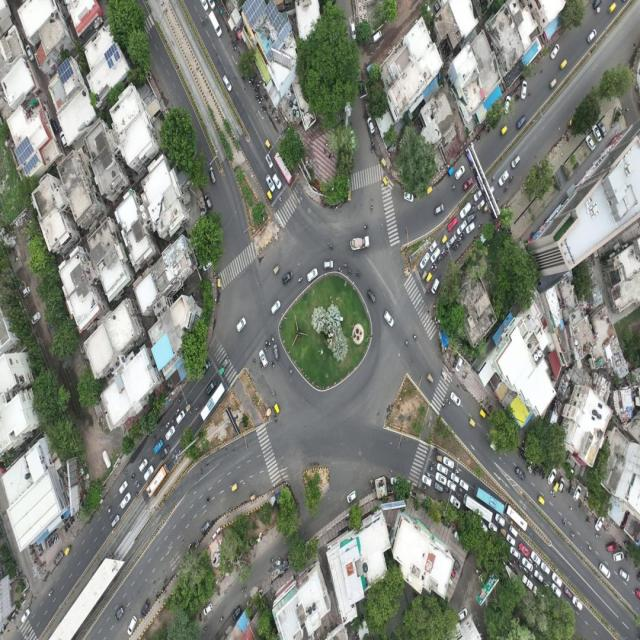3W: (536, 493, 547, 510), (558, 54, 568, 72), (63, 544, 73, 559), (478, 406, 488, 421), (566, 482, 575, 498), (248, 489, 257, 504), (608, 2, 618, 15), (498, 525, 508, 538), (425, 270, 433, 286), (426, 371, 435, 385), (468, 414, 477, 428), (186, 399, 193, 416), (420, 267, 427, 284), (567, 117, 576, 130), (551, 481, 560, 494), (500, 125, 509, 137), (222, 356, 230, 369), (266, 190, 274, 203), (549, 77, 557, 90), (425, 186, 434, 197), (230, 481, 238, 493), (274, 402, 280, 418), (216, 274, 222, 290), (380, 157, 388, 169), (440, 234, 448, 246), (435, 451, 443, 463), (265, 138, 272, 151), (448, 164, 455, 177), (272, 265, 281, 275), (219, 364, 225, 378), (382, 175, 388, 188), (482, 205, 489, 216)
Bus: (199, 380, 228, 426), (145, 459, 172, 504), (462, 491, 494, 526), (473, 484, 507, 516), (273, 150, 295, 191), (504, 499, 529, 534)
Cars: (344, 486, 359, 506), (514, 464, 527, 486), (598, 560, 611, 582), (460, 174, 475, 193), (497, 168, 511, 188), (418, 250, 432, 270), (433, 470, 448, 488), (118, 491, 132, 510), (586, 23, 598, 45), (384, 309, 396, 330), (618, 566, 632, 584), (205, 377, 218, 396), (269, 298, 282, 317), (306, 266, 319, 285), (459, 201, 472, 220), (551, 571, 564, 590), (449, 493, 462, 512), (591, 123, 602, 145), (52, 548, 64, 568), (221, 74, 233, 94), (503, 92, 513, 116), (446, 213, 458, 233), (445, 233, 459, 250), (442, 453, 456, 470), (19, 606, 32, 624), (152, 437, 165, 455), (281, 269, 294, 287), (370, 28, 383, 46), (432, 200, 444, 219), (571, 594, 583, 613), (584, 136, 598, 152), (456, 219, 469, 236), (449, 391, 462, 408), (127, 616, 137, 638), (141, 596, 151, 618), (231, 604, 242, 624), (366, 114, 376, 136), (430, 245, 441, 265), (546, 466, 557, 486), (143, 463, 155, 481), (530, 549, 542, 567), (258, 349, 269, 368), (272, 172, 283, 191), (174, 410, 187, 426), (402, 190, 415, 206), (509, 154, 522, 170), (550, 583, 563, 599), (533, 568, 546, 584), (518, 542, 531, 558), (164, 424, 176, 441), (454, 164, 466, 181), (516, 114, 528, 131), (266, 172, 276, 192), (572, 482, 582, 502), (598, 121, 609, 139), (366, 288, 377, 306), (510, 544, 521, 562), (506, 532, 517, 550), (605, 540, 619, 554), (110, 514, 122, 530), (159, 444, 171, 460), (349, 19, 357, 43), (549, 44, 561, 60), (522, 556, 534, 572), (421, 474, 433, 490), (201, 517, 211, 536), (236, 315, 246, 334), (204, 192, 214, 211), (430, 277, 440, 296), (348, 129, 357, 150), (114, 607, 125, 624), (612, 550, 625, 564), (201, 358, 211, 376), (208, 166, 217, 186), (355, 77, 364, 97), (562, 585, 574, 600), (436, 461, 448, 476), (118, 479, 129, 495), (520, 78, 528, 100), (594, 516, 605, 532), (202, 602, 214, 616), (322, 258, 334, 272), (464, 222, 476, 236), (138, 457, 148, 473), (265, 151, 273, 171), (495, 513, 507, 526), (272, 340, 279, 362), (466, 210, 477, 224), (450, 471, 461, 485), (557, 475, 565, 494), (541, 561, 551, 576), (433, 481, 445, 493), (459, 480, 470, 492), (510, 524, 520, 537), (488, 521, 498, 534), (199, 0, 209, 12), (473, 190, 483, 202), (477, 198, 486, 211), (207, 0, 217, 11), (429, 239, 437, 252), (592, 0, 602, 10)
LCV: (208, 10, 224, 40), (521, 574, 534, 593)
M2W: (161, 570, 168, 586), (47, 585, 55, 598), (327, 239, 334, 251), (218, 612, 224, 626), (29, 546, 36, 557), (240, 584, 247, 595), (270, 387, 276, 399), (287, 364, 293, 376), (200, 16, 206, 28), (502, 185, 510, 194), (187, 541, 193, 553), (136, 479, 143, 489), (297, 274, 304, 284), (130, 472, 136, 483), (152, 433, 158, 444), (278, 194, 284, 205), (202, 624, 208, 635), (33, 556, 39, 566), (133, 490, 139, 500), (205, 495, 211, 505), (160, 424, 165, 436), (165, 420, 170, 432), (178, 394, 184, 404), (194, 404, 200, 414), (347, 266, 353, 276), (362, 222, 368, 232), (412, 332, 418, 342), (523, 565, 529, 575), (432, 445, 439, 453), (471, 201, 476, 212), (107, 505, 113, 514), (122, 469, 128, 478), (355, 269, 361, 278), (508, 175, 514, 184), (490, 174, 496, 183), (404, 339, 410, 348), (587, 543, 593, 552), (595, 532, 601, 541), (425, 470, 431, 479), (270, 555, 276, 564), (70, 513, 74, 526), (64, 524, 69, 534), (66, 520, 71, 530), (270, 359, 275, 369), (259, 360, 264, 370), (270, 334, 275, 344), (514, 88, 519, 98), (369, 477, 374, 487), (170, 417, 177, 424), (231, 44, 238, 51), (174, 408, 180, 416), (264, 337, 268, 349), (264, 96, 270, 104), (273, 114, 279, 122), (342, 260, 348, 268), (454, 466, 460, 474), (475, 135, 480, 144), (441, 401, 446, 410), (562, 518, 567, 527), (458, 485, 463, 494), (455, 489, 460, 498), (47, 538, 51, 549), (586, 514, 590, 525), (451, 183, 457, 190), (458, 230, 464, 237), (440, 248, 446, 255), (425, 287, 431, 294), (431, 460, 437, 467), (428, 465, 434, 472), (263, 342, 267, 352), (267, 104, 272, 112), (370, 146, 374, 156), (478, 222, 483, 230), (451, 242, 456, 250), (570, 531, 575, 539), (532, 560, 537, 568), (268, 336, 271, 348), (250, 80, 256, 86), (433, 264, 437, 273), (510, 558, 516, 564), (270, 108, 275, 115), (462, 233, 467, 240), (441, 253, 446, 260), (446, 398, 451, 405), (529, 572, 534, 579), (526, 573, 531, 580), (50, 536, 53, 547), (55, 534, 59, 542), (249, 76, 253, 84), (253, 82, 257, 90), (263, 106, 267, 114), (455, 243, 459, 251), (529, 557, 533, 565), (445, 486, 449, 494), (53, 534, 56, 544), (254, 94, 260, 99), (456, 237, 462, 242), (518, 564, 523, 570), (515, 558, 520, 564), (422, 483, 427, 489), (260, 104, 264, 111), (516, 96, 520, 103), (457, 242, 464, 246), (437, 256, 441, 263), (431, 263, 435, 270), (519, 449, 522, 458), (274, 413, 276, 426), (257, 81, 262, 86), (254, 86, 258, 92), (258, 98, 262, 104), (263, 94, 267, 100), (338, 267, 342, 273), (445, 249, 449, 255), (542, 472, 545, 480), (522, 452, 525, 459), (541, 467, 543, 476), (534, 467, 536, 475), (530, 461, 532, 468), (537, 466, 539, 473)
Truck: (348, 233, 373, 255)
